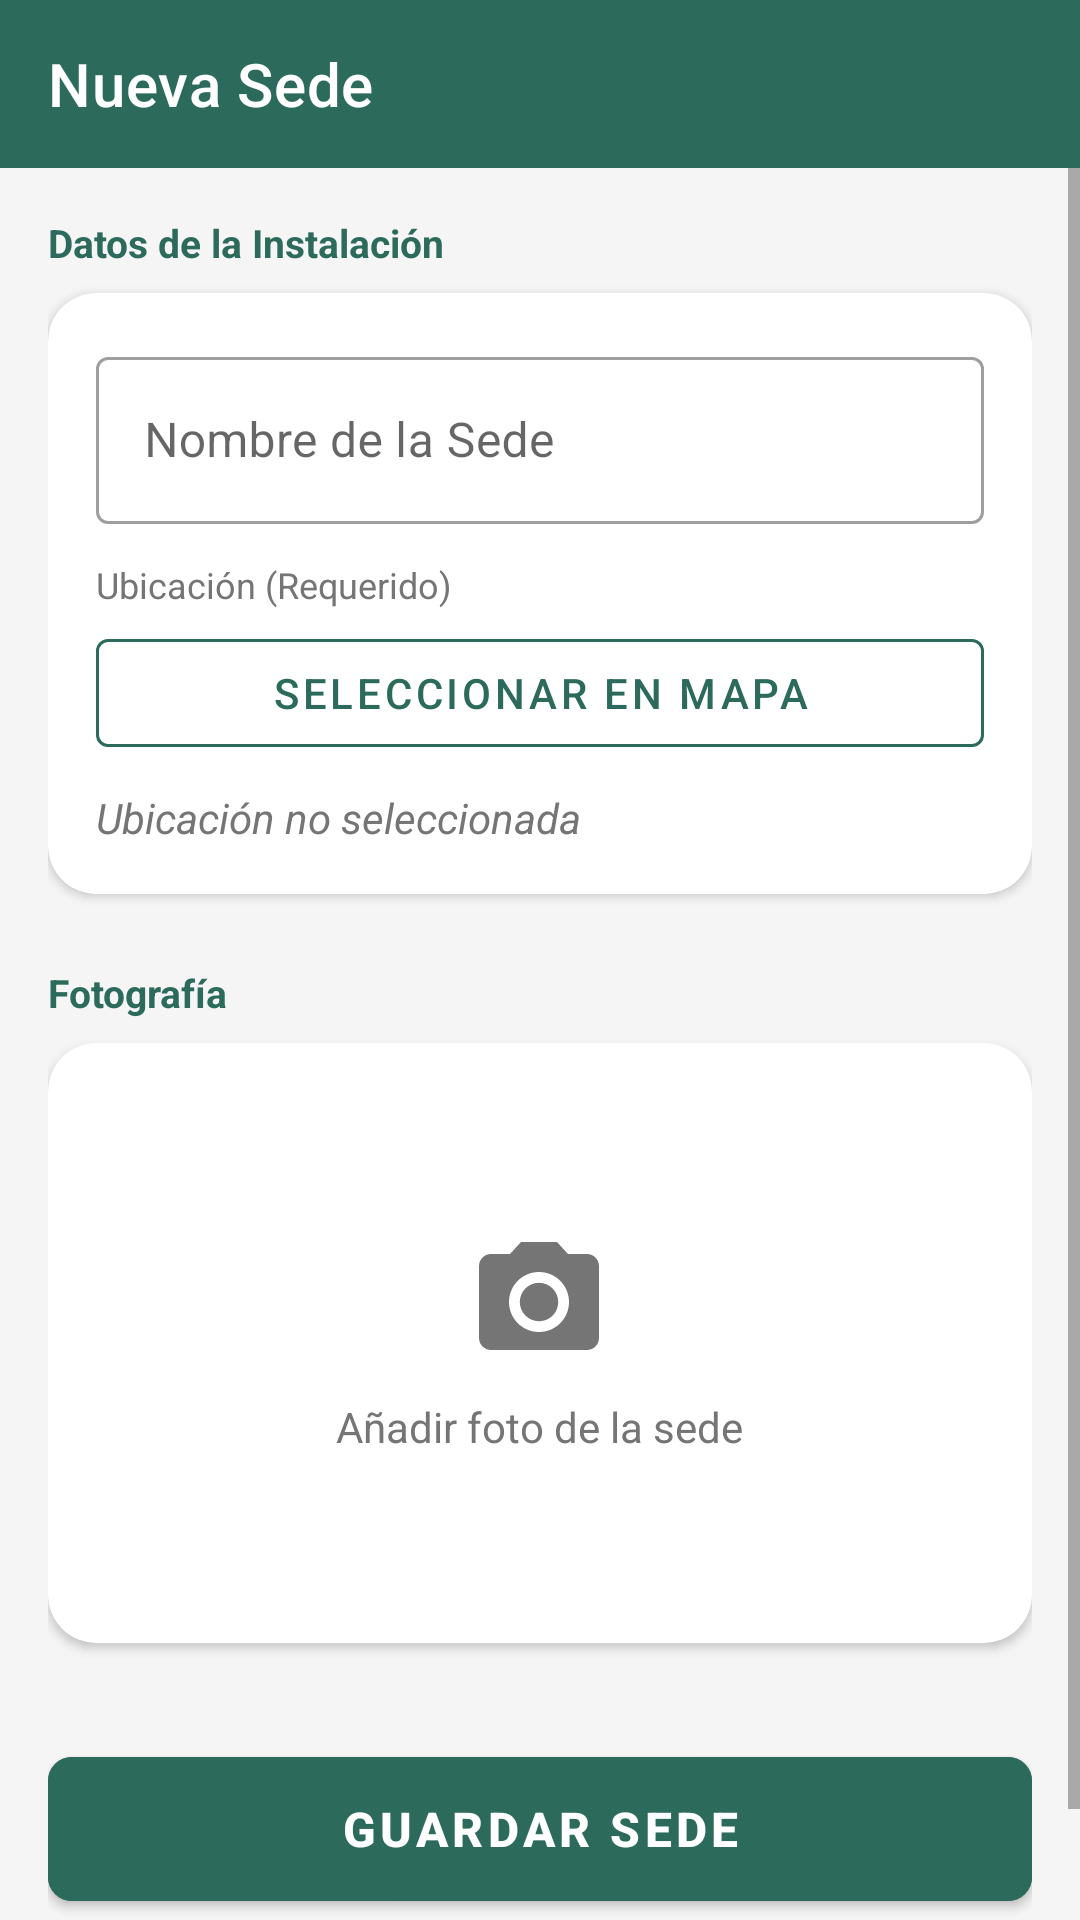

Named icons in this screenshot (1080px x 1920px) and their centers, (x=x, y=y):
camera: (x=539, y=1296)
